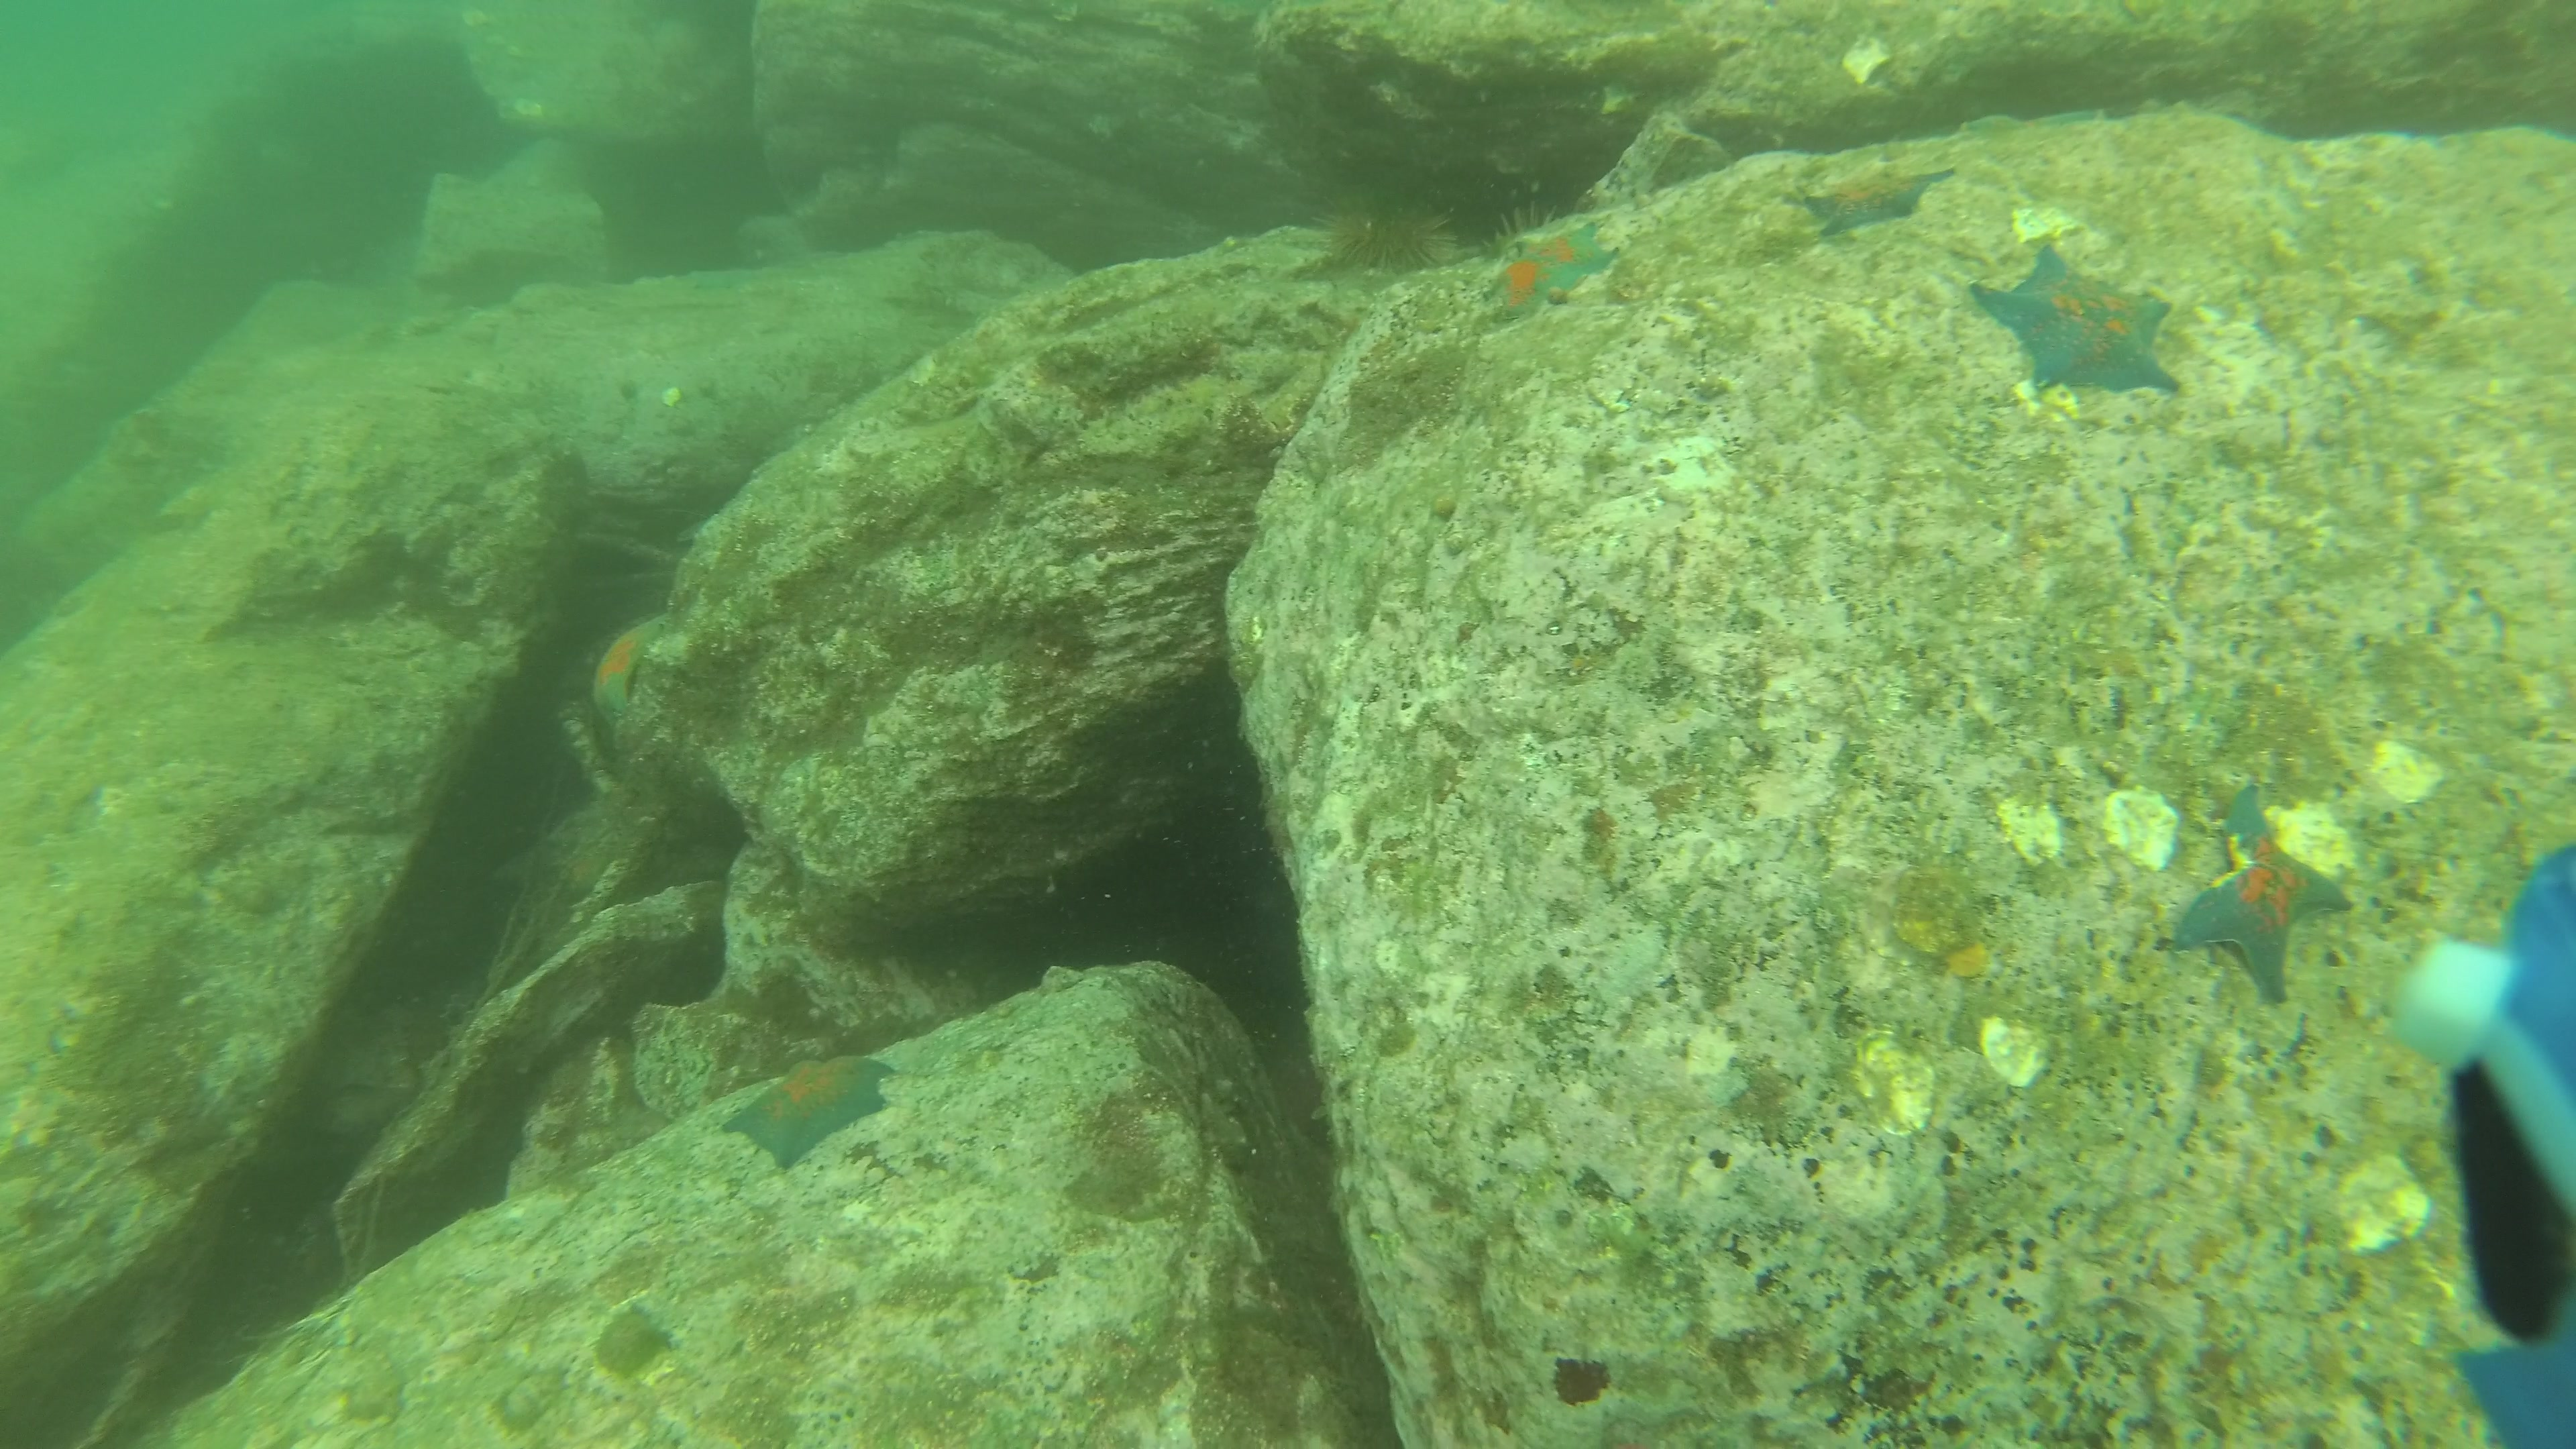echinus: (1309, 198, 1461, 276), (586, 1299, 679, 1384), (1488, 200, 1562, 255)
holothurian: (1582, 27, 1727, 106)
starfish: (2164, 777, 2358, 966), (1967, 241, 2187, 396), (717, 1049, 899, 1175), (1483, 214, 1624, 320), (1798, 165, 1960, 241), (587, 609, 676, 724)
